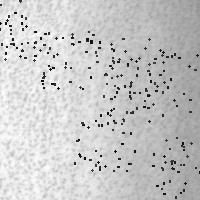pitted_surface: (1, 3, 195, 195), (74, 112, 134, 170), (103, 38, 162, 96), (105, 61, 163, 120), (39, 31, 99, 88), (152, 137, 200, 196), (156, 52, 200, 111), (0, 0, 35, 59), (0, 0, 25, 39)
